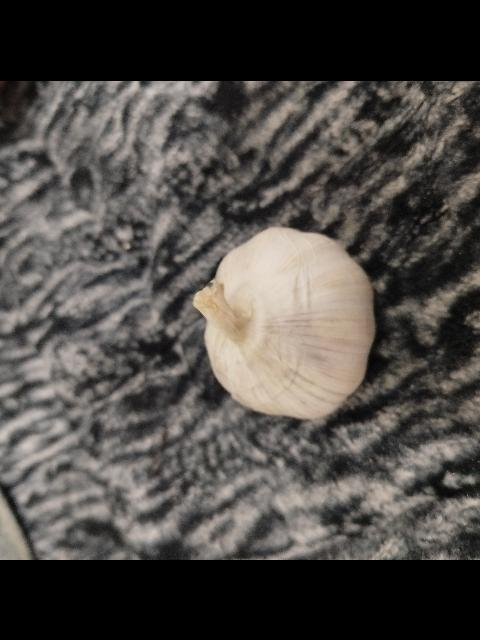garlic: (192, 225, 376, 419)
